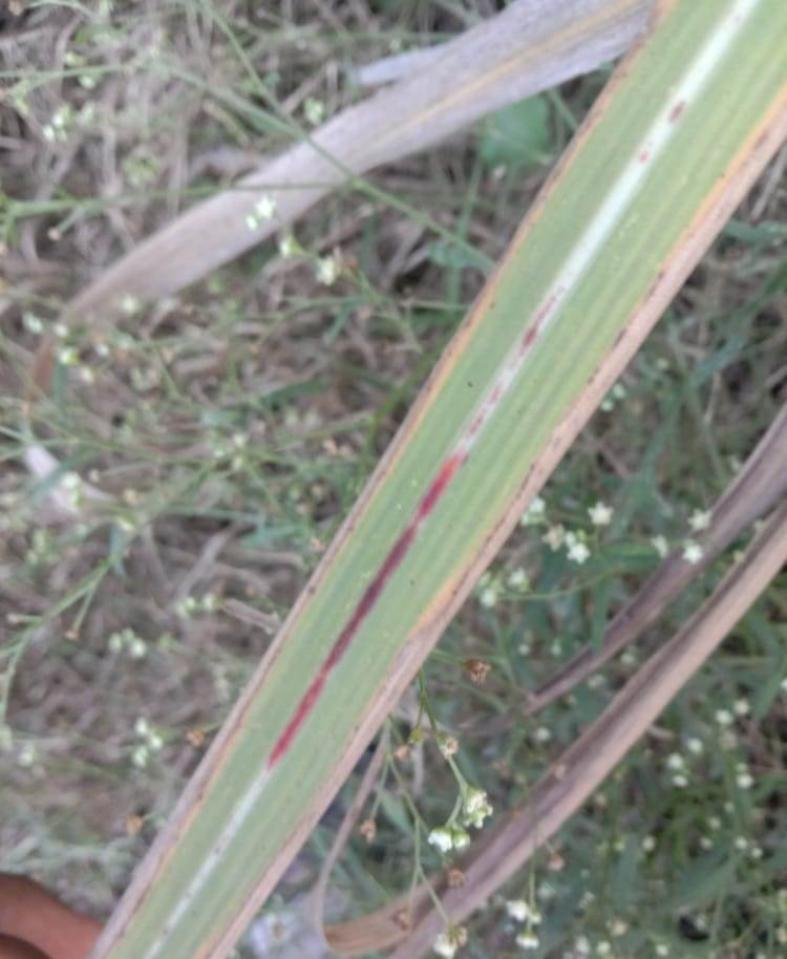RedRot: (266, 283, 571, 774), (637, 100, 689, 166)
Yellow: (84, 0, 682, 959), (200, 78, 787, 959)
